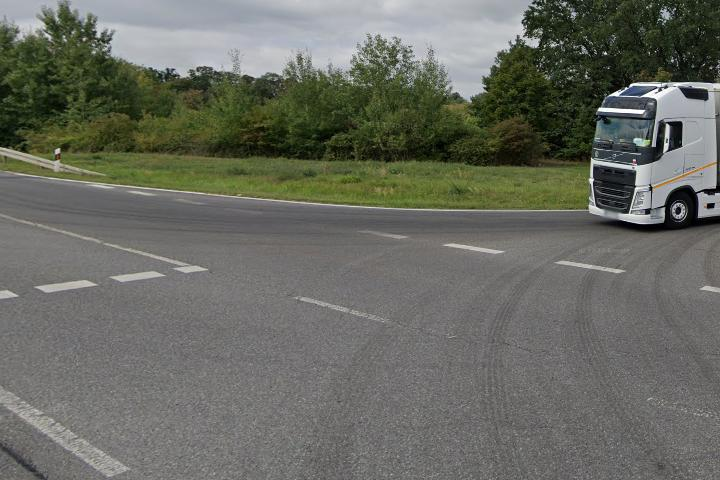vehicle: (576, 71, 720, 233)
